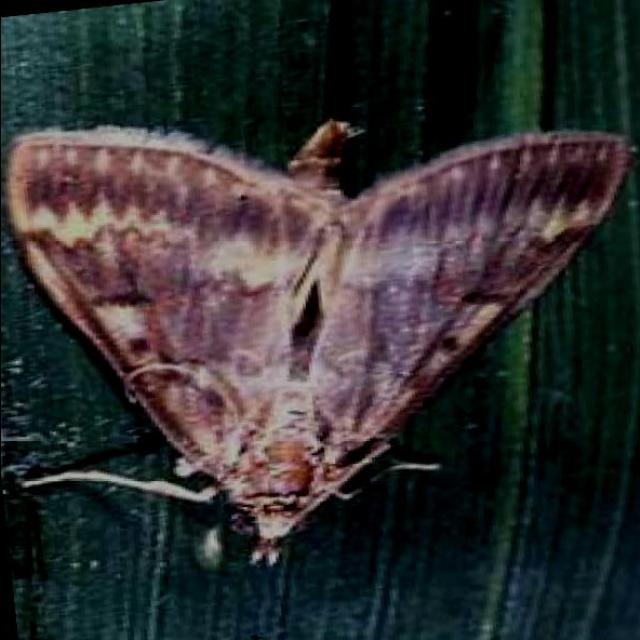stem borer: (6, 120, 635, 562)
